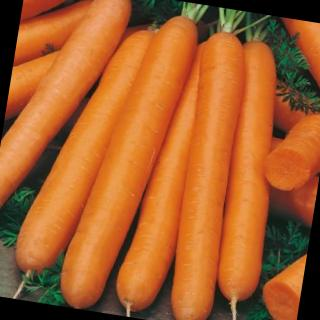Wortel: (57, 2, 203, 320), (158, 28, 256, 320)
